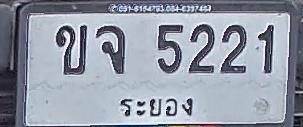1: (258, 24, 274, 73)
2: (188, 24, 214, 73), (220, 24, 246, 73)
5: (157, 24, 183, 73)
A02: (56, 24, 86, 74)
A08: (96, 25, 125, 74)
RYG: (114, 92, 198, 119)
